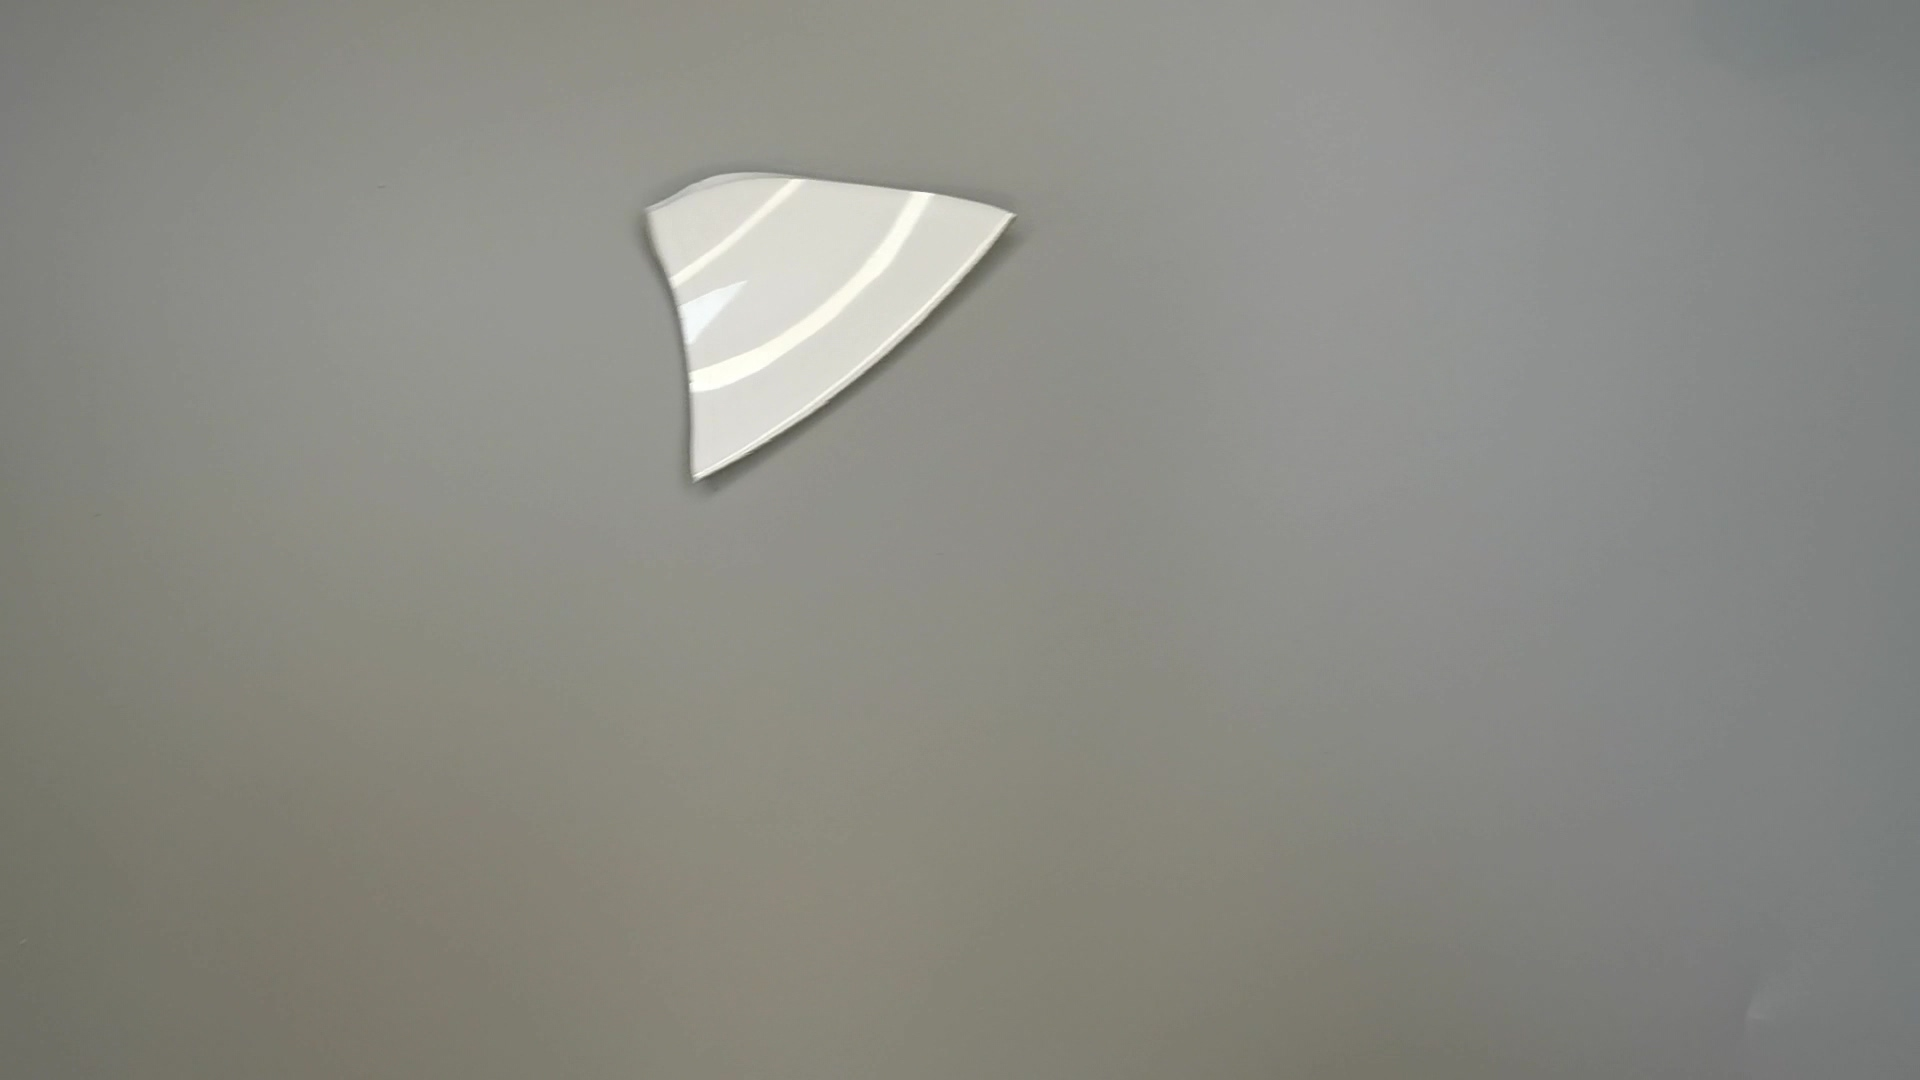ceramic: (645, 169, 1015, 489)
